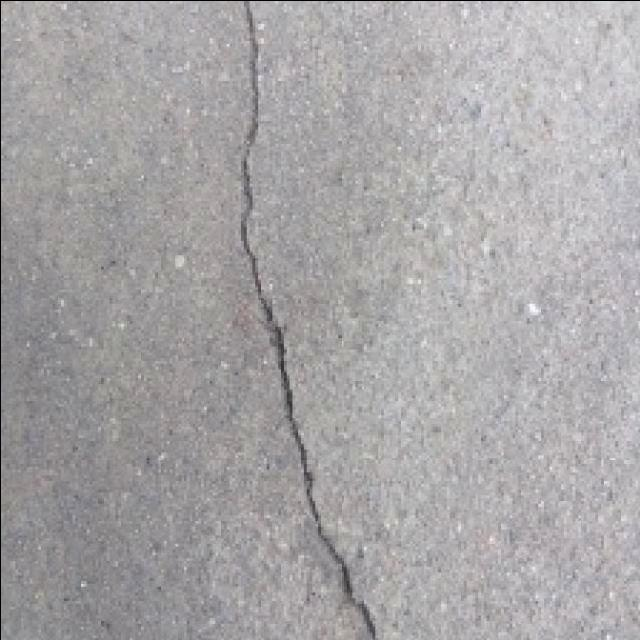SurfaceCrack: (178, 0, 390, 640)
